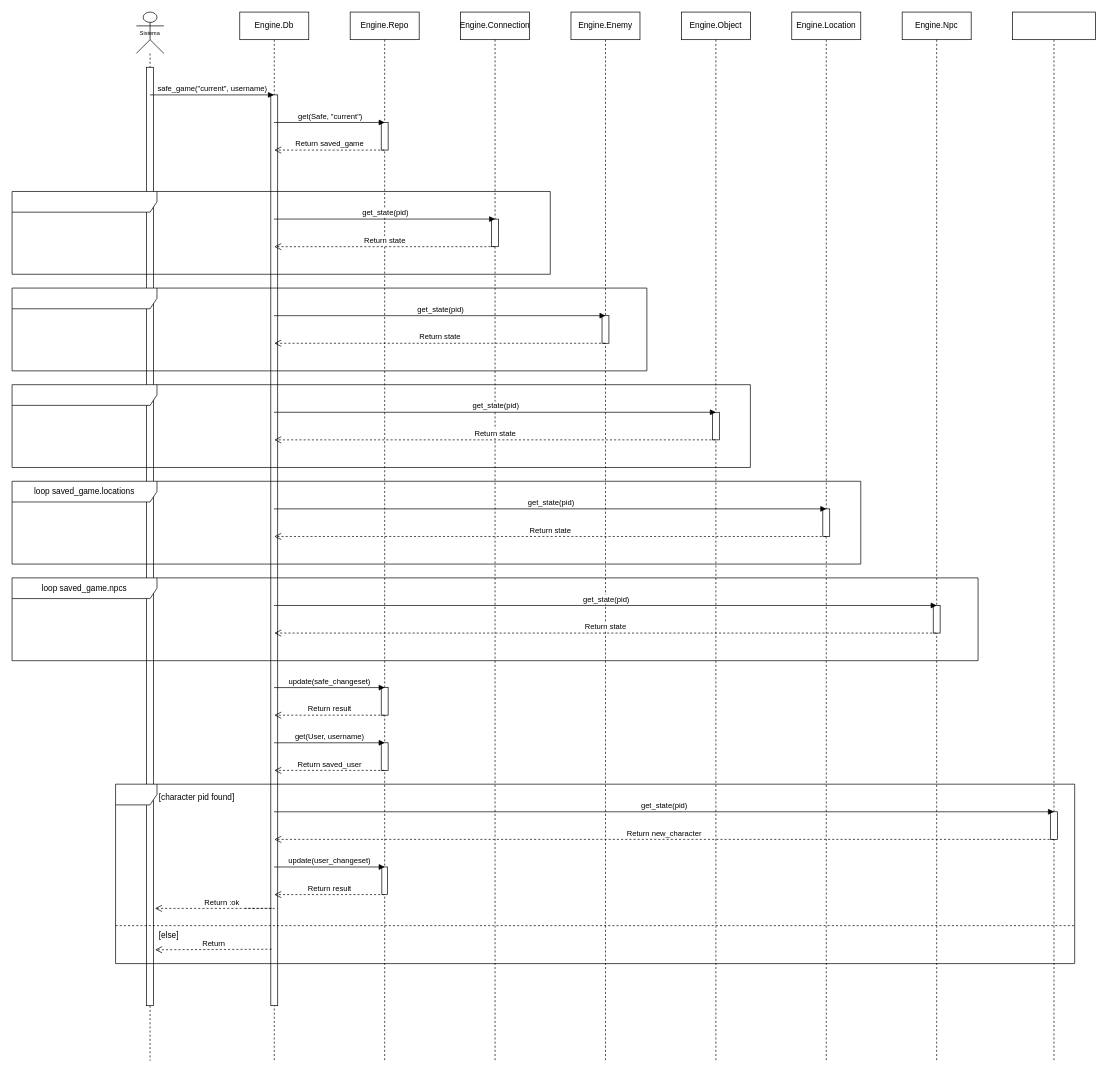
This 1107x1073 diagram has some shape labels left out. Each missing label, with the box of its shape:
alt: (115, 783, 1075, 964)
Engine.Character: (1012, 11, 1095, 1061)
loop saved_game.connections: (11, 191, 550, 274)
loop saved_game.enemies: (11, 287, 647, 371)
loop saved_game.objects: (11, 384, 750, 467)
